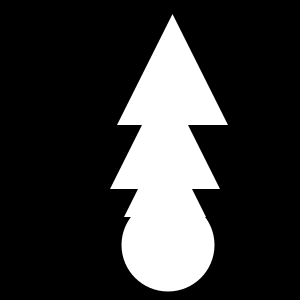rectangle: (122, 198, 215, 292)
triangle: (117, 14, 228, 125), (110, 79, 220, 189), (124, 135, 206, 217)
